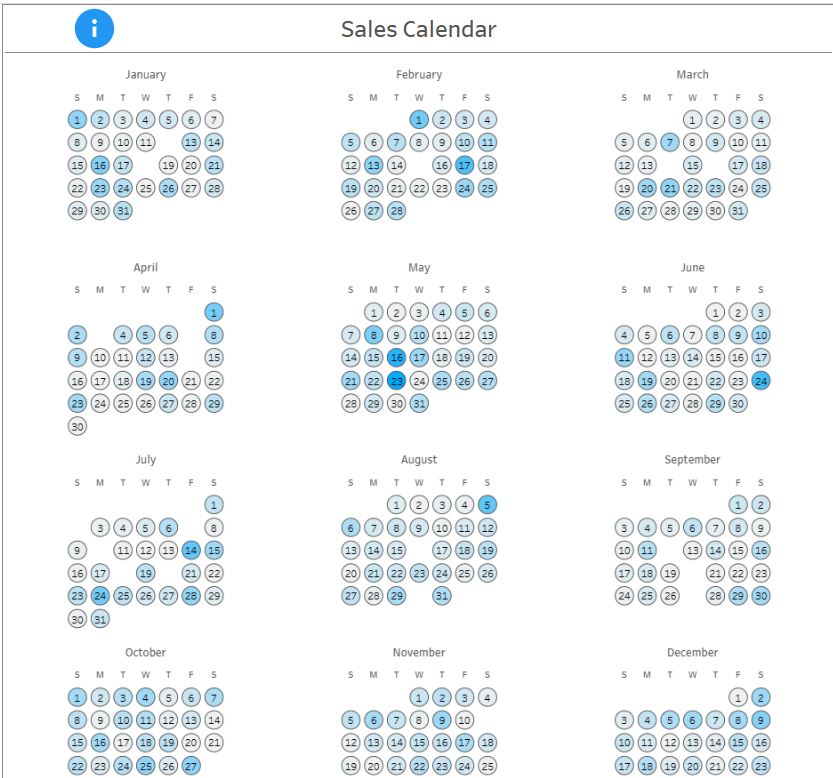

Layout of this report page (visuals, bound fields, positions):
{"tool":"tableau","page":{"name":"Dashboard 1","canvas":[1000,1000],"ordinal":0},"visuals":[{"type":"text","box":[1,1,998,56]},{"type":"dashboard-object","box":[78,2,67,54]},{"type":"blank","box":[1,57,998,1]},{"type":"worksheet","title":"Calendar","mark":"Automatic","rows":["Date"],"box":[1,58,998,941]},{"type":"blank","box":[1,59,998,150]},{"type":"text","box":[1,209,998,300]},{"type":"blank","box":[1,509,998,150]}]}

Visuals, with their boxes on the page's 1000x1000 design canvas (x1, y1, x2, y2). These are canvas units, not pixel positions in the 833x778 screenshot, which may show the page scaled, cropped or inside an application window:
text: 1 1 999 57
dashboard-object: 78 2 145 56
blank: 1 57 999 58
"Calendar" worksheet: 1 58 999 999
blank: 1 59 999 209
text: 1 209 999 509
blank: 1 509 999 659
